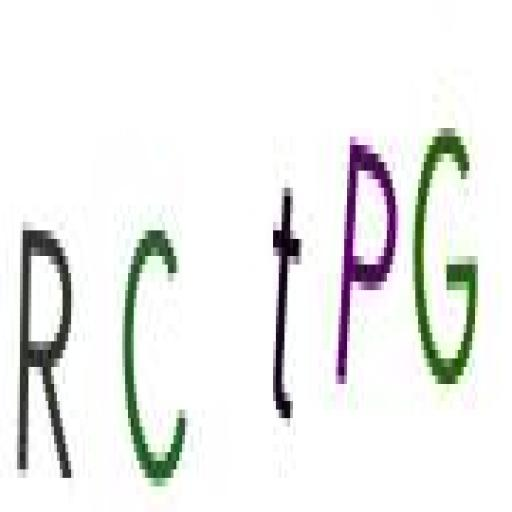C: (115, 208, 196, 494)
G: (411, 108, 481, 422)
P: (329, 118, 400, 412)
R: (12, 205, 81, 495)
t: (268, 160, 308, 450)
